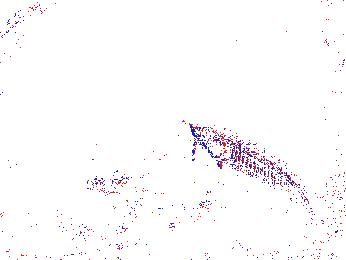X-ray fish: (5, 208, 103, 254)
glassfish: (191, 122, 317, 260), (1, 1, 117, 62)
siberian prawn: (106, 190, 218, 249), (108, 156, 235, 196)
